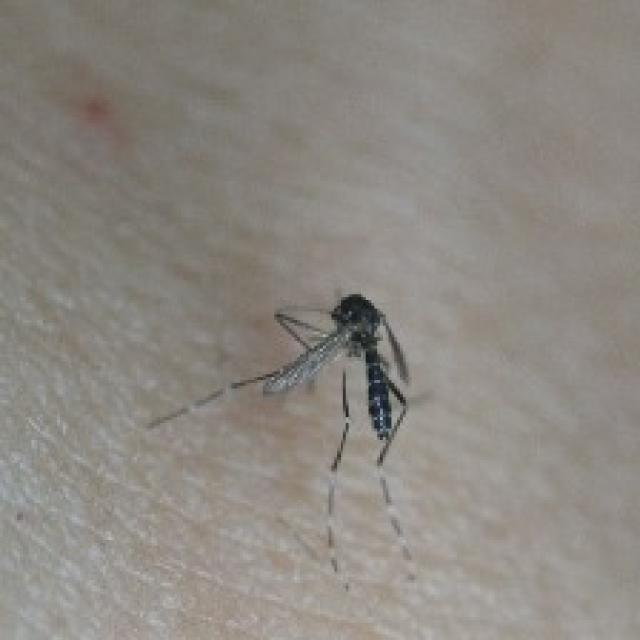aedes: (146, 288, 417, 586)
